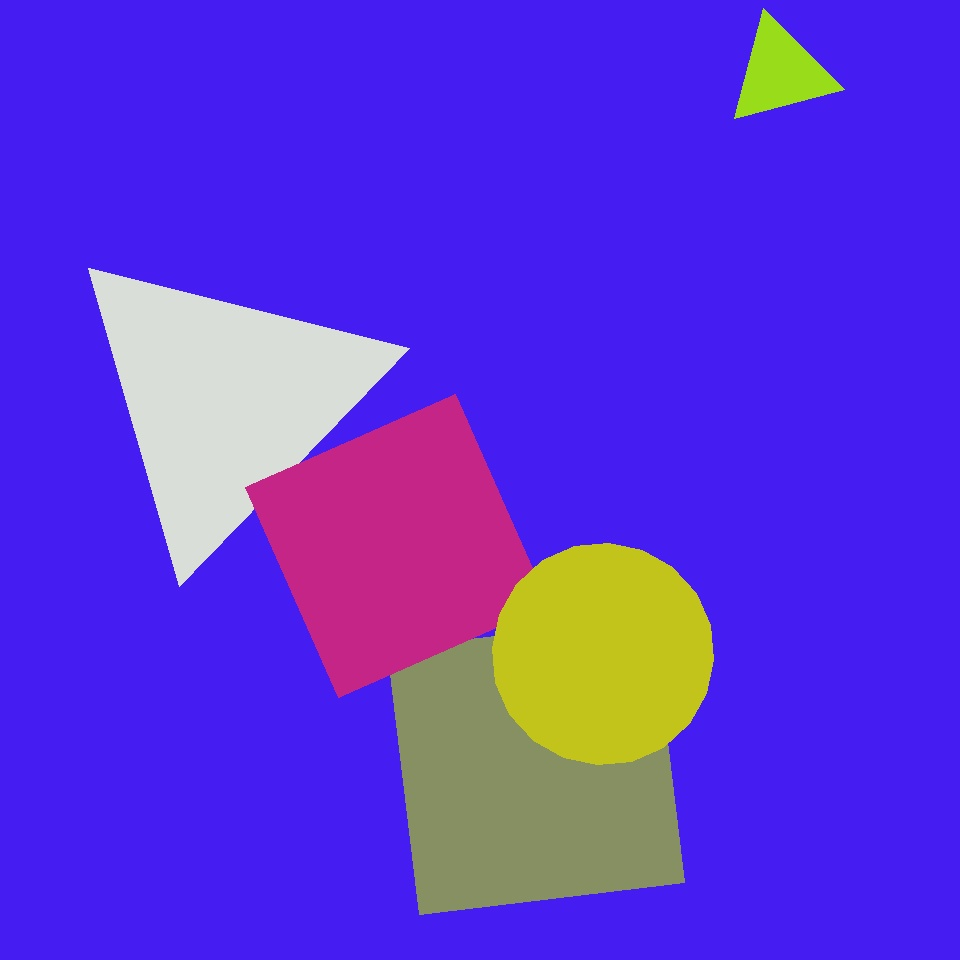circle: (66, 242, 386, 560), (726, 17, 836, 127)
square: (246, 394, 548, 698), (388, 618, 684, 914)
triangle: (493, 544, 714, 764)
